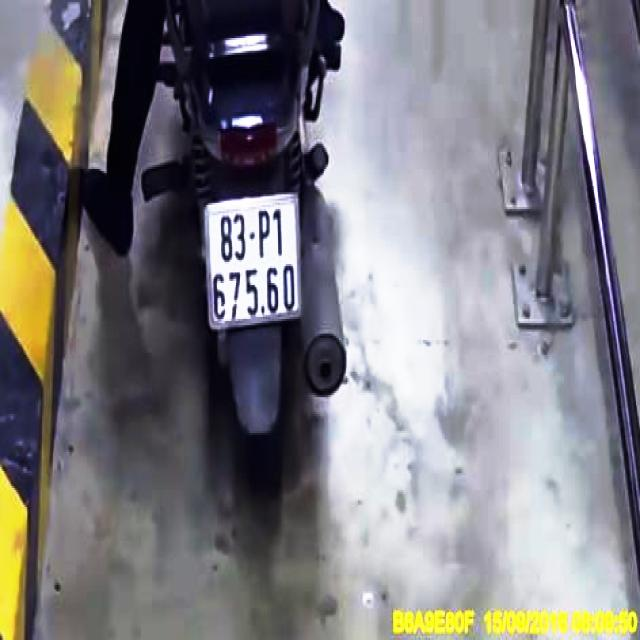license_plate: (210, 200, 301, 325)
